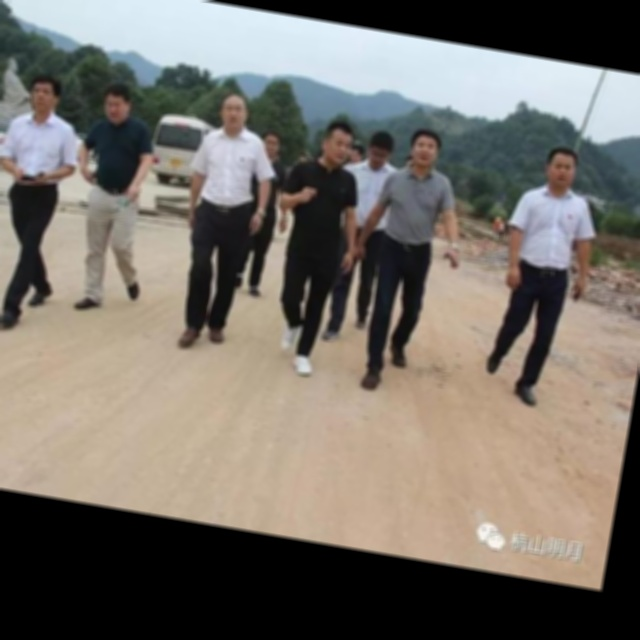Sin_Casco_Mascarrilla: (24, 70, 65, 117), (101, 79, 136, 126), (217, 91, 250, 134)
Sin_Chaleco: (508, 182, 590, 281), (375, 163, 453, 255)
